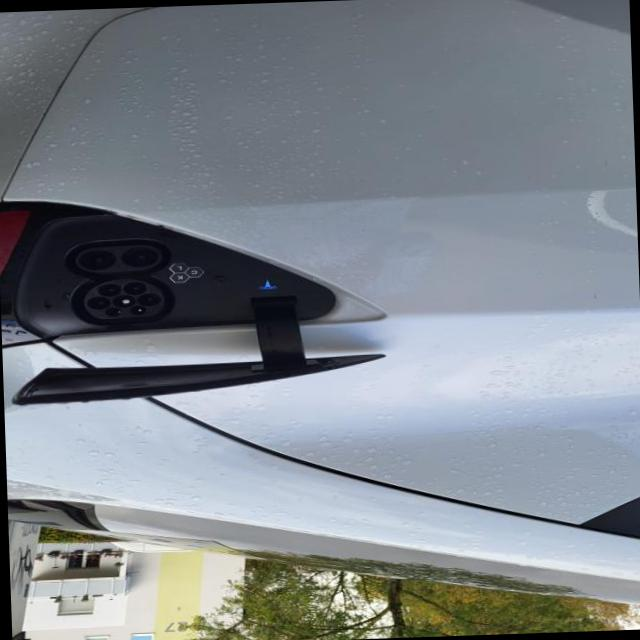inlet: (83, 278, 163, 317)
inlet-above-left: (128, 305, 145, 314)
inlet-above-right: (104, 306, 120, 315)
inlet-below-left: (121, 280, 145, 294)
inlet-below-right: (97, 282, 120, 295)
inlet-center: (111, 294, 134, 307)
inlet-center-left: (135, 292, 159, 305)
inlet-center-right: (86, 295, 109, 308)
